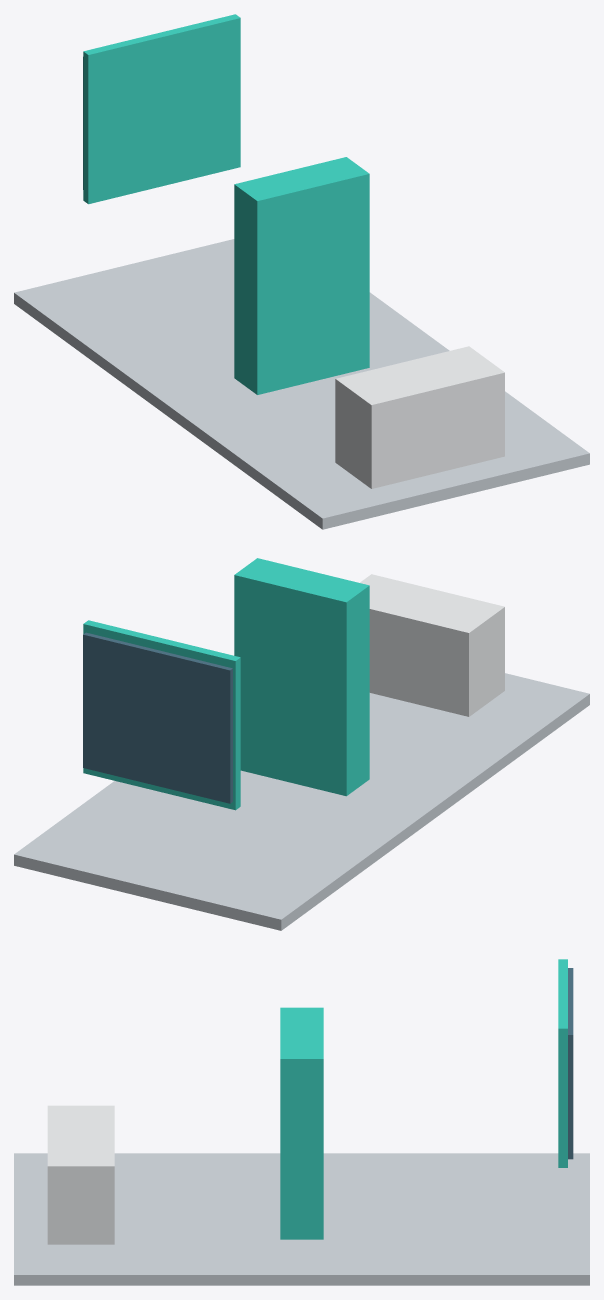
3 renders of one model, top to bottom at view 1: azimuth 30°, elevation 25°; view 2: azimuth 150°, elevation 25°; view 3: azimuth 270°, elevation 25°, orthographic. The views are drawn at different scales.
Parts seen in each view (by area): view 1: Exhibition Booth Concept; view 2: Exhibition Booth Concept; view 3: Exhibition Booth Concept.
Part boxes in pixels (<box>): Exhibition Booth Concept: <box>14,14,589,529</box>; Exhibition Booth Concept: <box>14,558,589,930</box>; Exhibition Booth Concept: <box>14,959,589,1285</box>.
Size of the model in its own units: 3 by 2.65 by 6.
